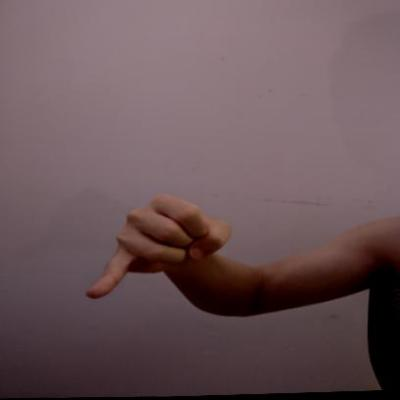hand: (80, 187, 235, 305)
